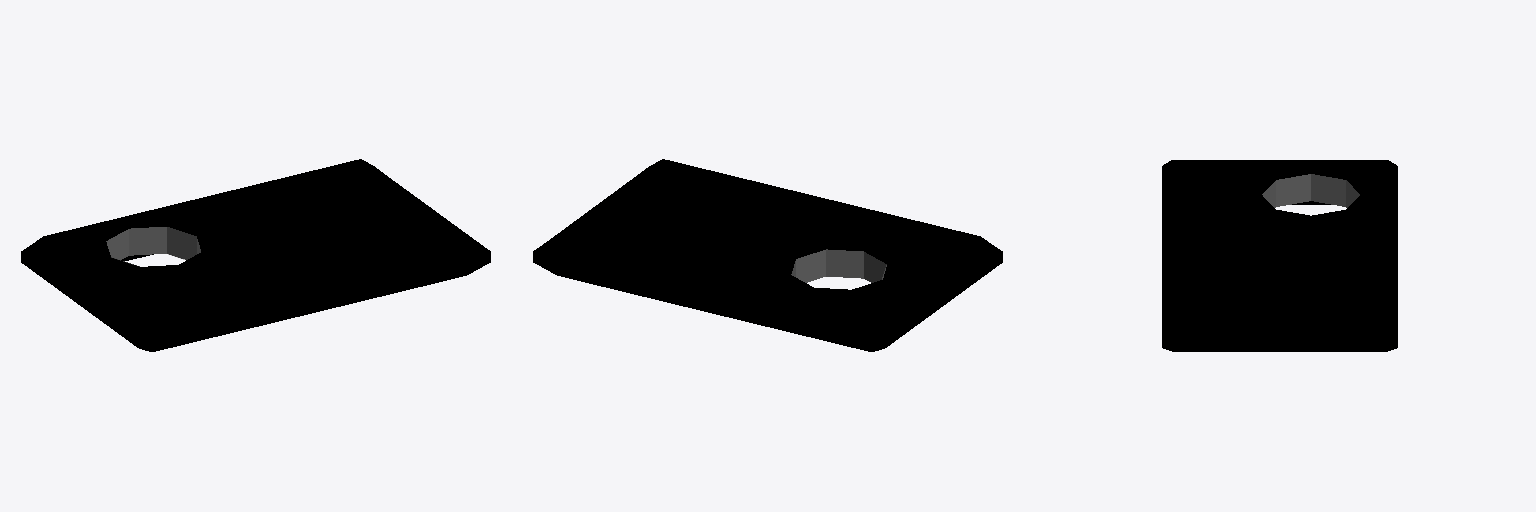
File: Panel.obj
The picture shows the model from 3 angles: view 1: azimuth 30°, elevation 25°; view 2: azimuth 150°, elevation 25°; view 3: azimuth 270°, elevation 25°; orthographic projection.
Parts seen in each view (by area): view 1: Panel; view 2: Panel; view 3: Panel.
Part boxes in pixels (bbox=[...]): Panel: bbox=[21, 159, 490, 351]; Panel: bbox=[533, 159, 1002, 351]; Panel: bbox=[1162, 160, 1397, 351].
Size of the model in its own units: 0.26 by 0.0267 by 0.15.